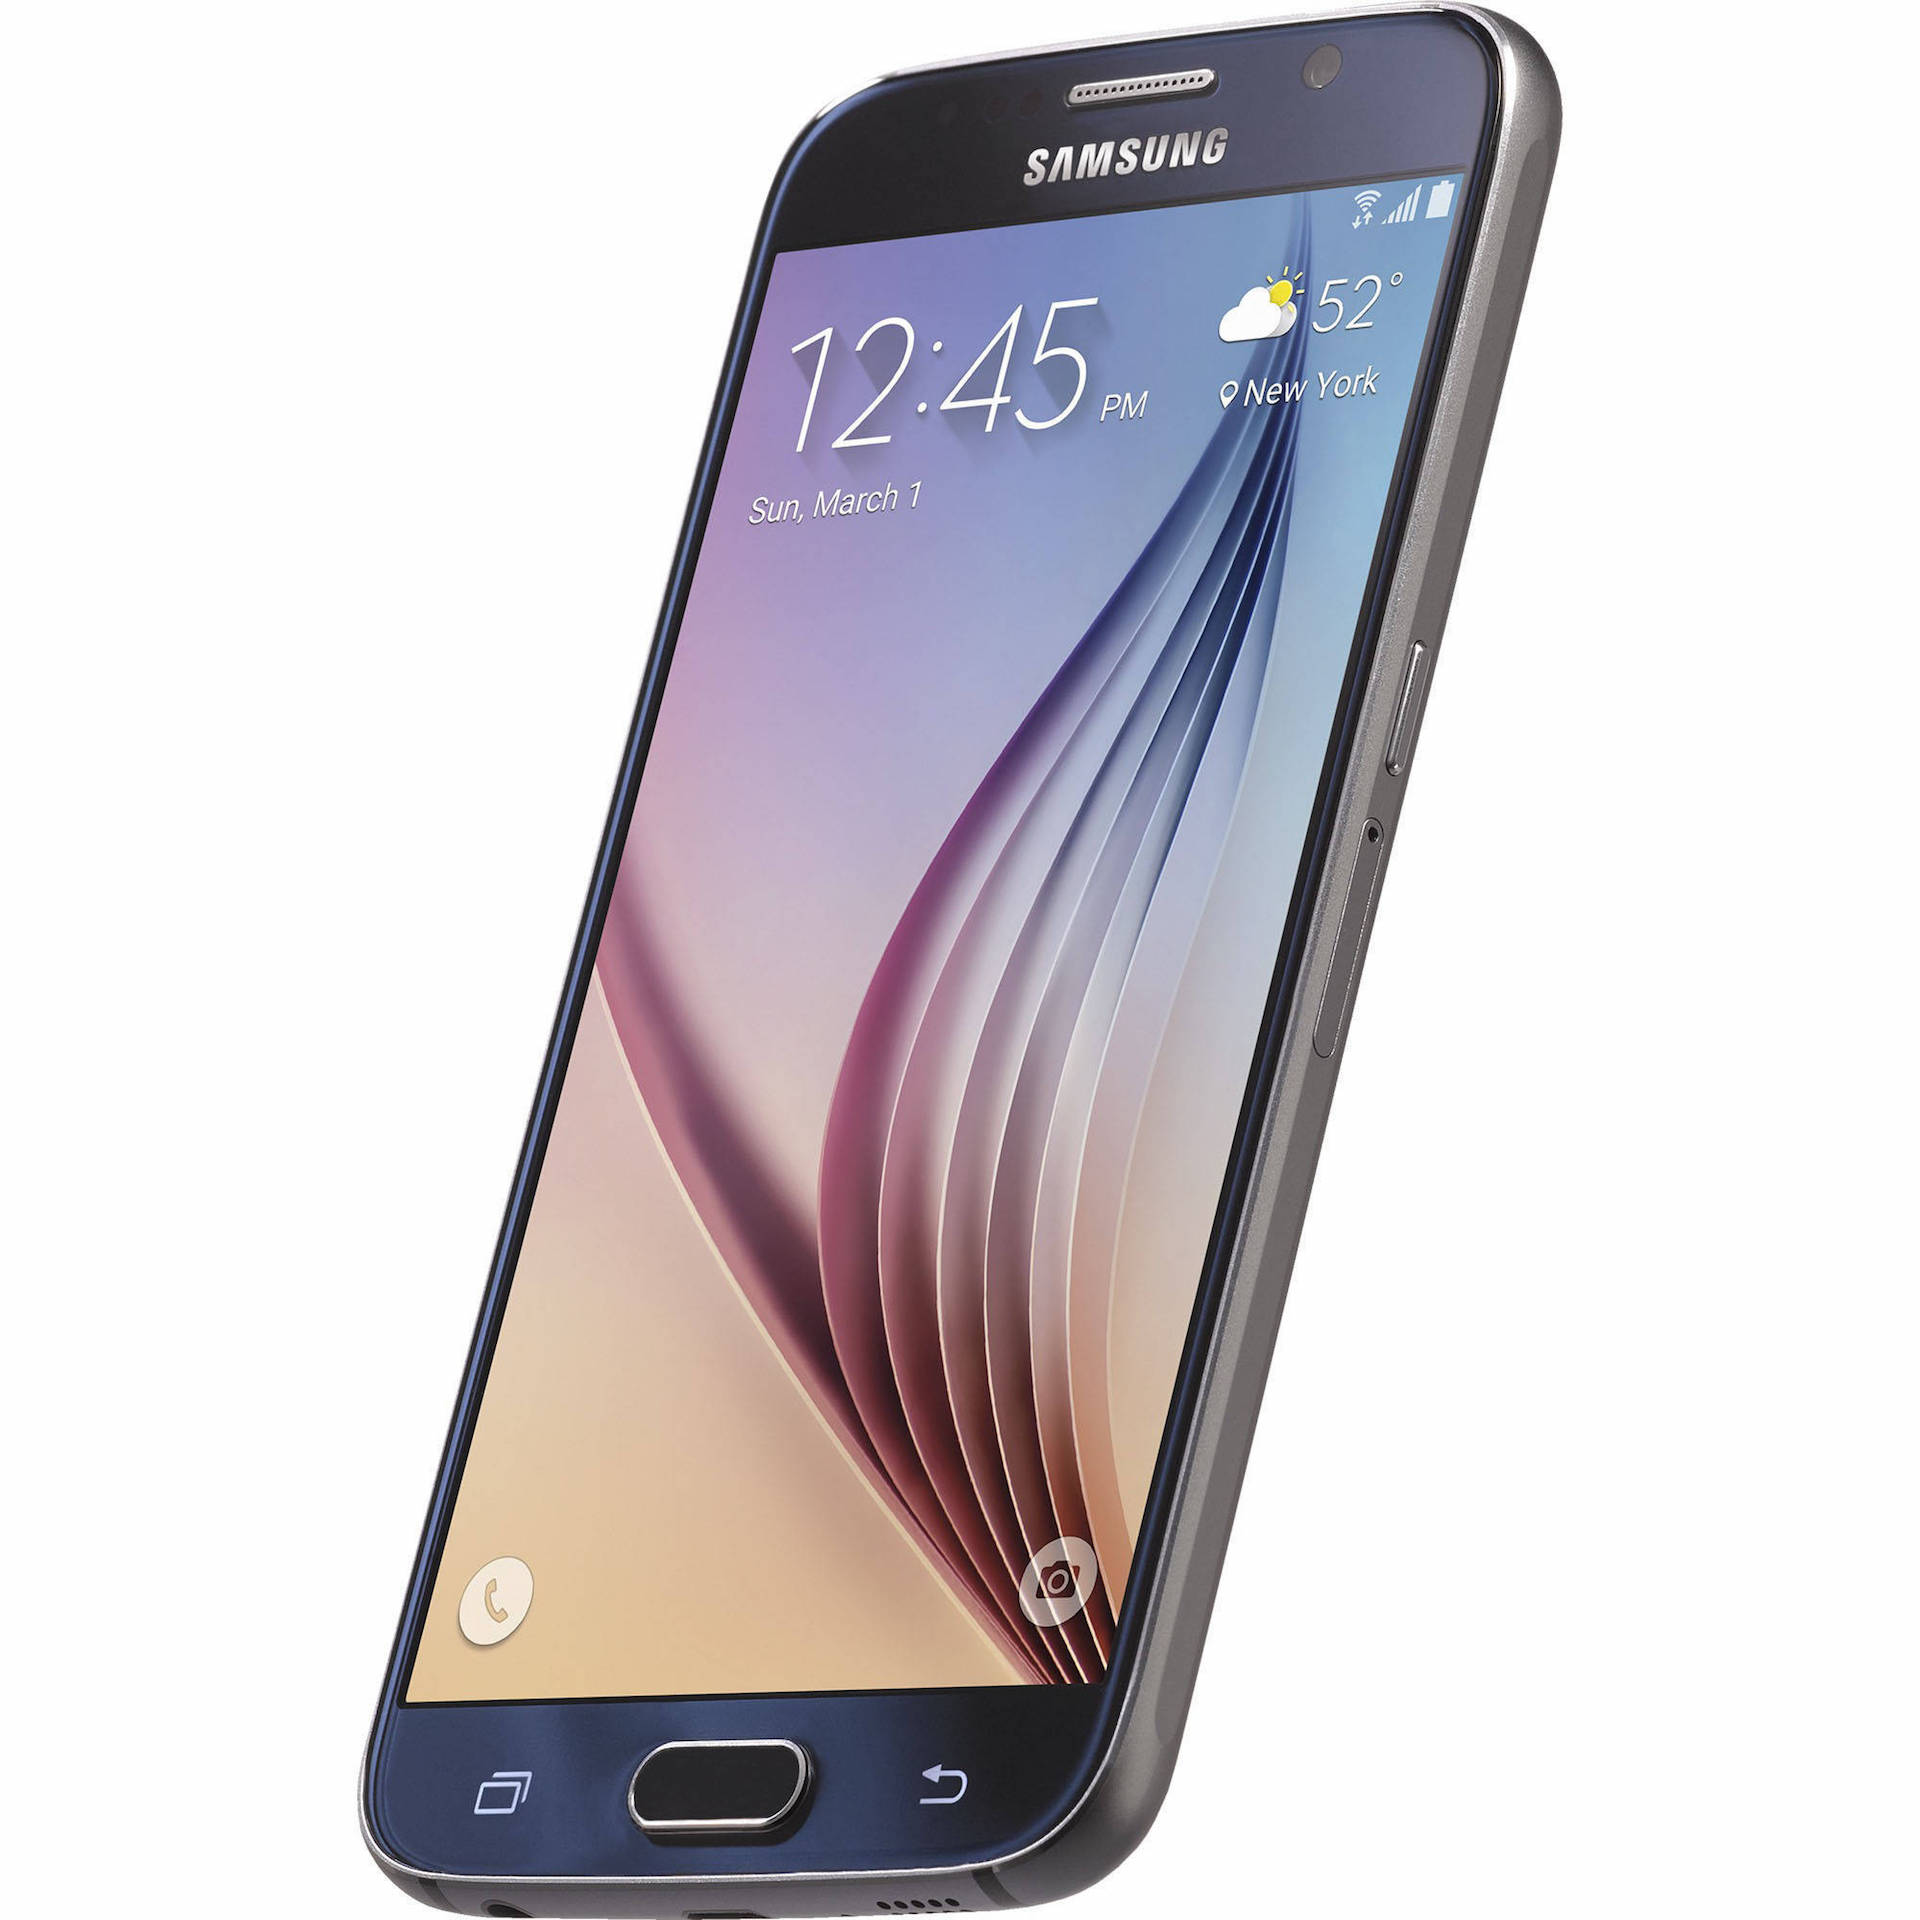smartphone: (360, 9, 1567, 1909)
